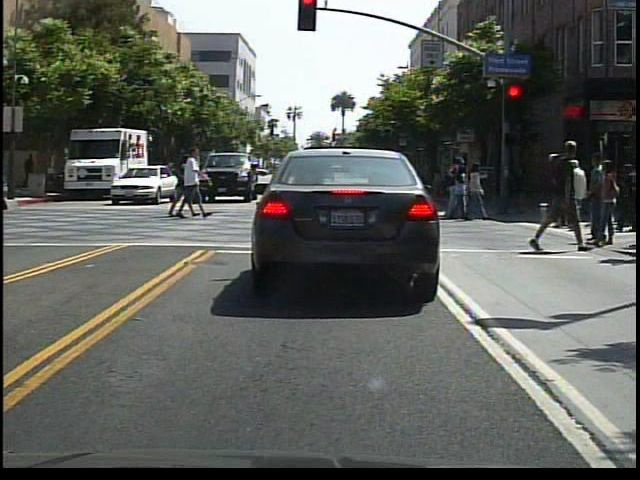person: (529, 133, 594, 264), (171, 150, 208, 226), (556, 155, 591, 235), (290, 154, 324, 215)
